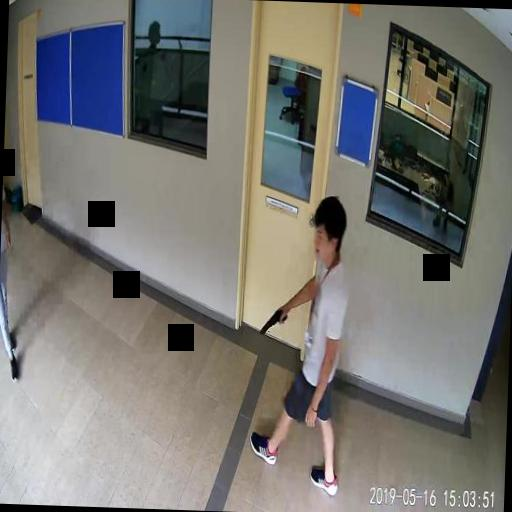Handgun: (258, 301, 286, 333)
